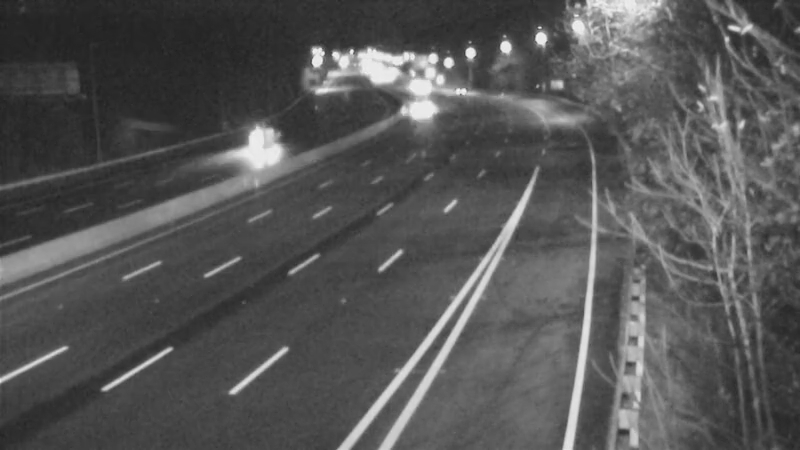vehicle: (437, 65, 487, 115), (396, 87, 446, 137), (224, 116, 274, 166)
